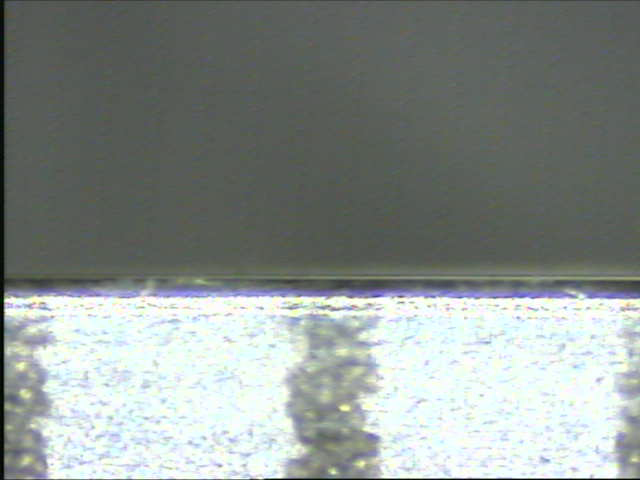line: (284, 299, 384, 478)
